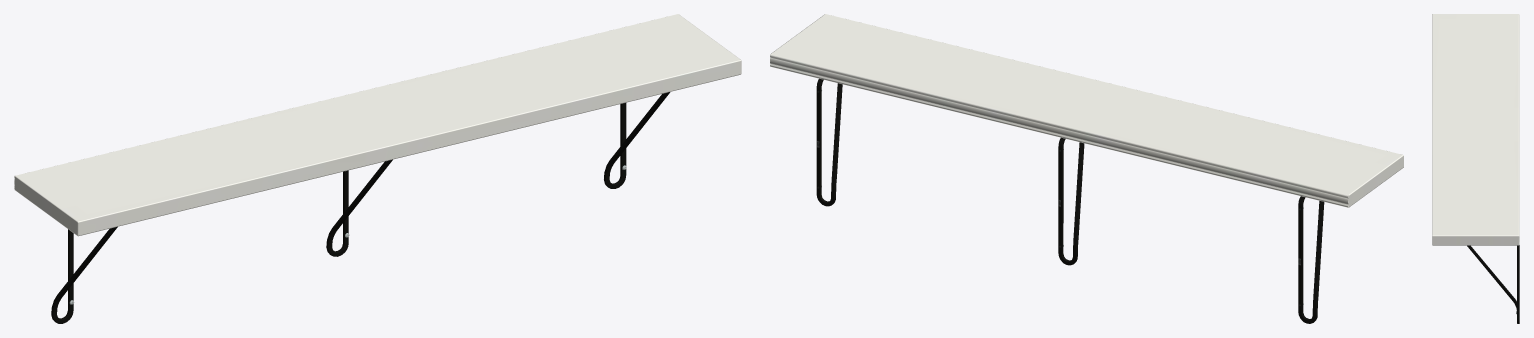
Rendered from 32 - BERGSHULT FÖRLÄGGARE Wall shelf - blackwhite 120x20 cm.glb.
3 renders of one model, left to right at view 1: azimuth 30°, elevation 25°; view 2: azimuth 150°, elevation 25°; view 3: azimuth 270°, elevation 25°, orthographic. The views are drawn at different scales.
Parts seen in each view (by area): view 1: 79572789_wall_shelf.001, 79572789_wall_shelf.005, 79572789_wall_shelf, 79572789_wall_shelf.003; view 2: 79572789_wall_shelf.001, 79572789_wall_shelf.005, 79572789_wall_shelf.003, 79572789_wall_shelf; view 3: 79572789_wall_shelf.001, 79572789_wall_shelf.005.
Part boxes in pixels (<box>): 79572789_wall_shelf.001: <box>14,14,741,236</box>; 79572789_wall_shelf.005: <box>604,92,670,188</box>; 79572789_wall_shelf: <box>51,226,117,323</box>; 79572789_wall_shelf.003: <box>326,159,392,256</box>; 79572789_wall_shelf.001: <box>770,14,1403,207</box>; 79572789_wall_shelf.005: <box>816,78,842,206</box>; 79572789_wall_shelf.003: <box>1058,137,1084,265</box>; 79572789_wall_shelf: <box>1298,196,1324,323</box>; 79572789_wall_shelf.001: <box>1432,14,1519,245</box>; 79572789_wall_shelf.005: <box>1467,245,1519,323</box>.
Size of the model in its own units: 1.2 by 0.2744 by 0.1999.
7 materials, 7 textured.
